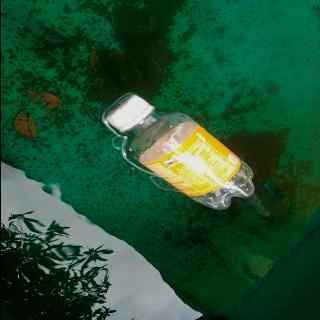bottle: (100, 91, 258, 212)
